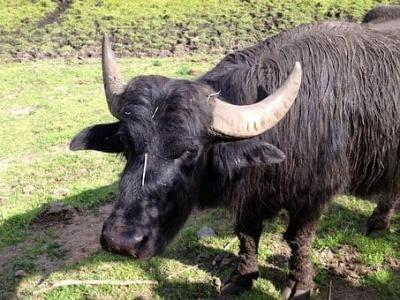buffalo: (70, 6, 399, 299)
